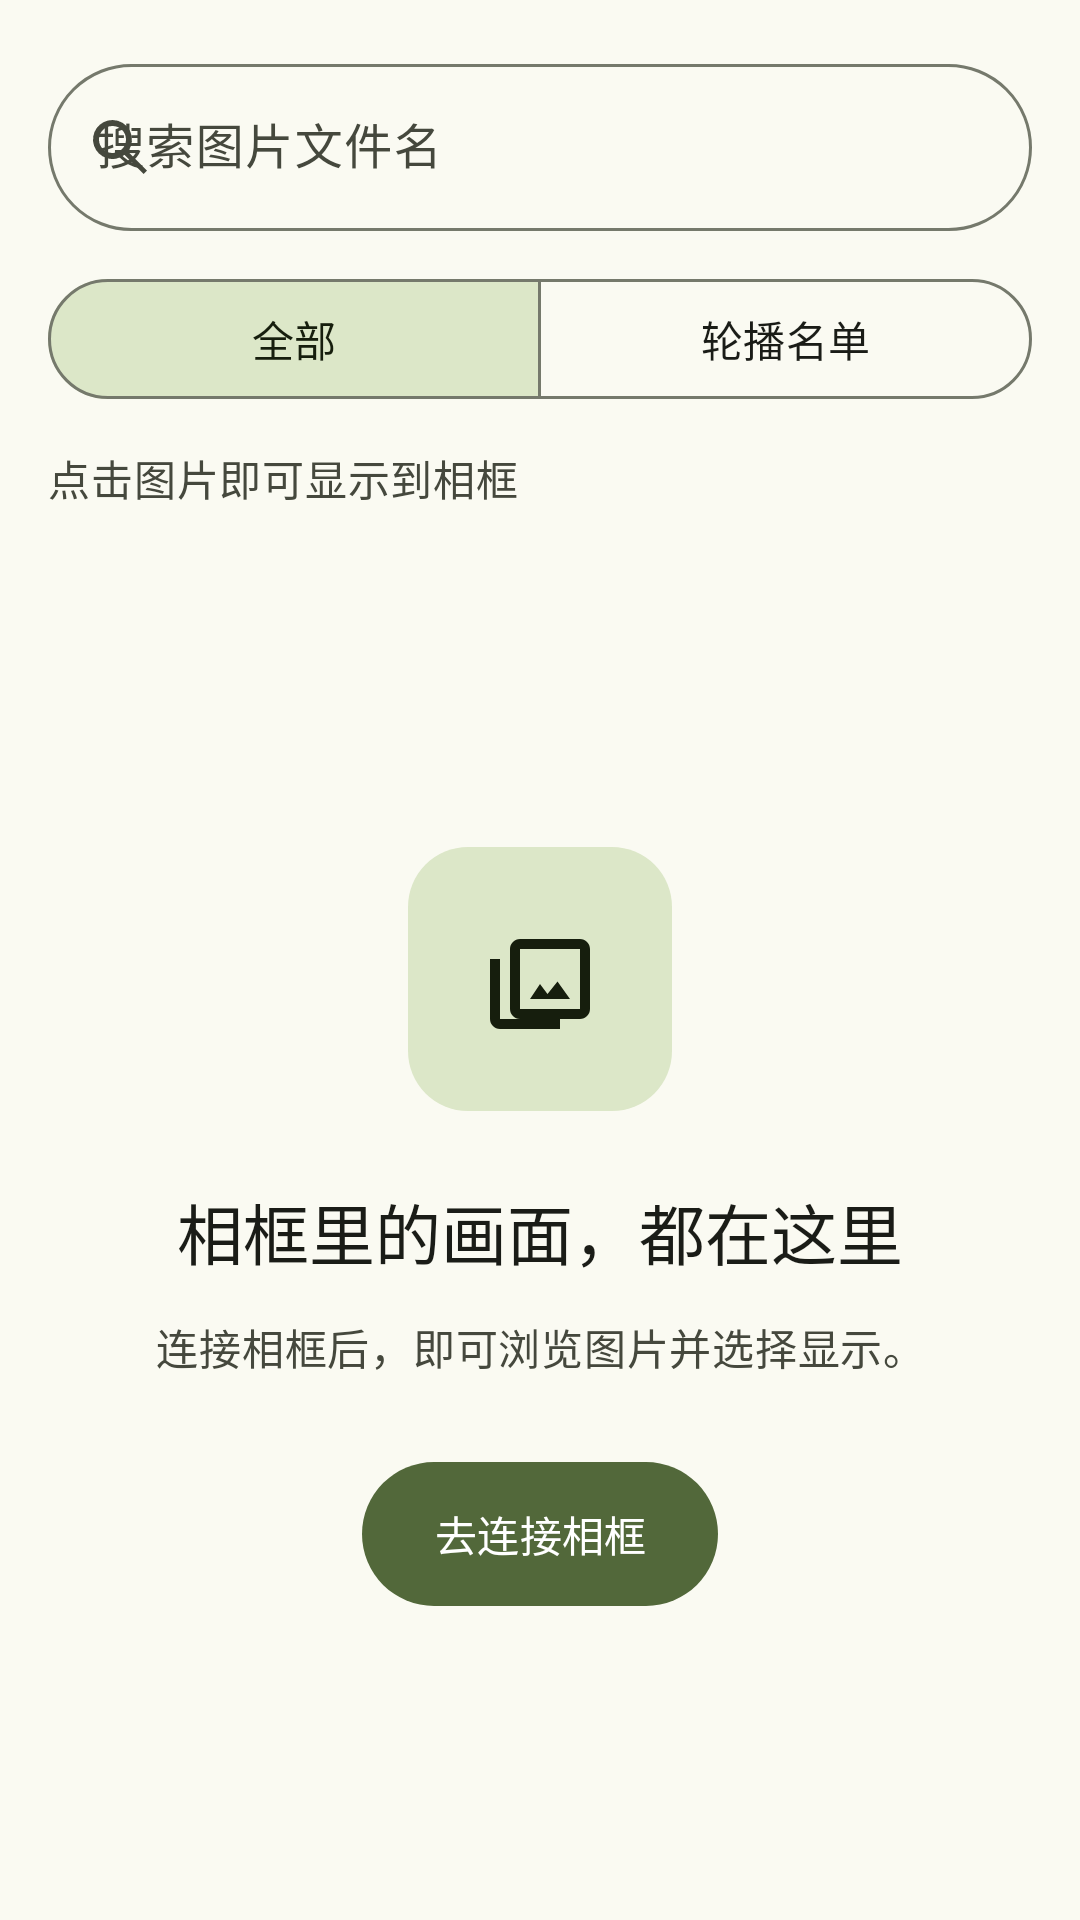

Screen size 1080 × 1920. Icon name, then its center in pixels as point (x, y):
gallery: point (540, 979)
